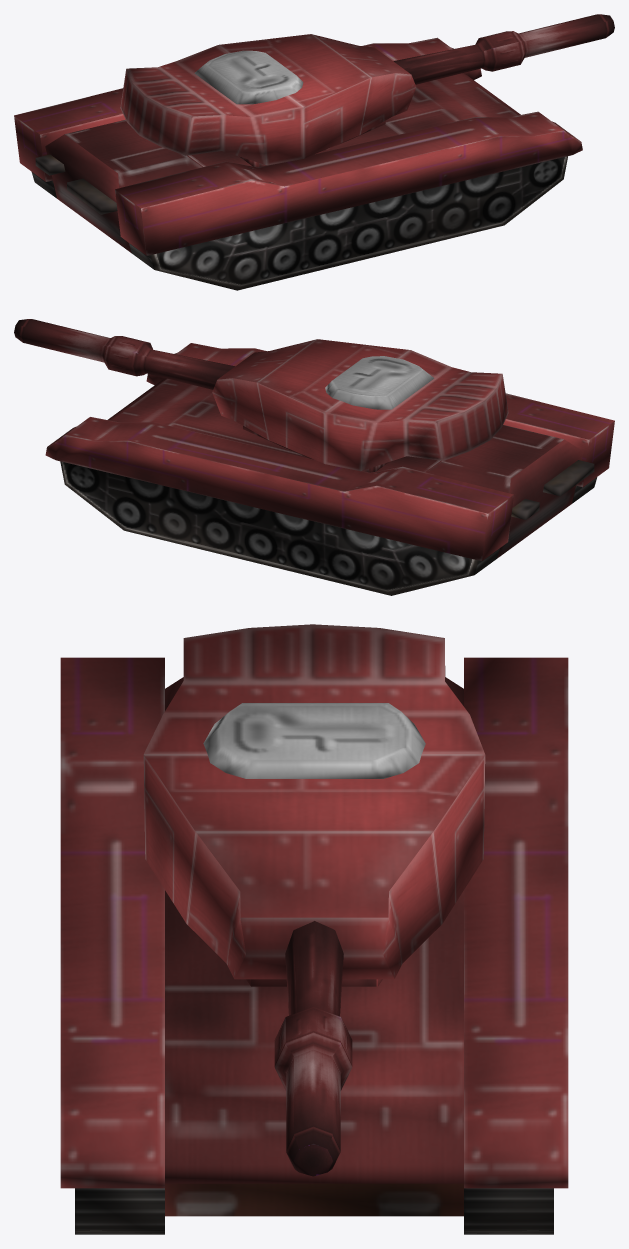
File: tank.obj
3 views of the same model, one above another, from view 1: azimuth 30°, elevation 25°; view 2: azimuth 150°, elevation 25°; view 3: azimuth 270°, elevation 25° (orthographic). The views are drawn at different scales.
Visible parts, largest first — view 1: Tread Covers, Turret, Treads, Middle, Barrel, turret flair, Rear Flair; view 2: Tread Covers, Turret, Treads, Middle, Barrel, turret flair, Rear Flair; view 3: Tread Covers, Turret, Middle, turret flair, Barrel, Treads.
Boxes of the visible parts, <box> form: Tread Covers: <box>14,37,582,255</box>; Turret: <box>120,34,416,165</box>; Treads: <box>31,156,567,290</box>; Middle: <box>45,73,520,253</box>; Barrel: <box>393,14,614,84</box>; turret flair: <box>194,50,303,104</box>; Rear Flair: <box>35,154,117,214</box>; Tread Covers: <box>45,343,614,560</box>; Turret: <box>212,339,508,471</box>; Treads: <box>60,461,597,595</box>; Middle: <box>108,378,583,558</box>; Barrel: <box>14,319,234,389</box>; turret flair: <box>325,356,434,409</box>; Rear Flair: <box>511,460,594,519</box>; Tread Covers: <box>60,657,568,1188</box>; Turret: <box>143,624,485,979</box>; Middle: <box>165,677,463,1216</box>; turret flair: <box>203,703,425,778</box>; Barrel: <box>274,921,352,1176</box>; Treads: <box>75,1188,553,1234</box>.
Size of the model in its own units: 7.32 by 2.05 by 2.97.
Materials: 1 (1 with a texture image).
